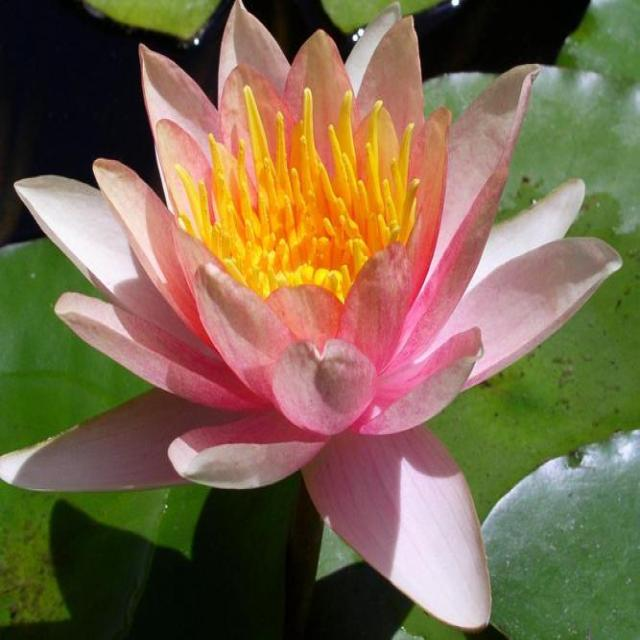rose: (8, 4, 622, 640)
